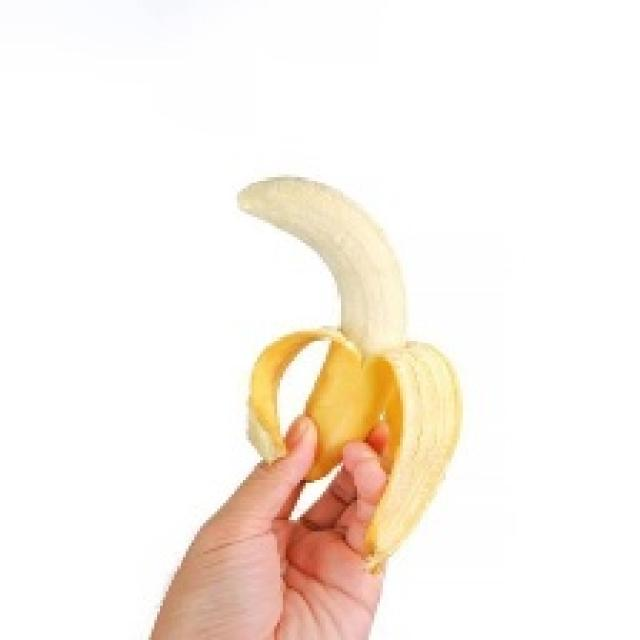Banana: (234, 172, 463, 574)
